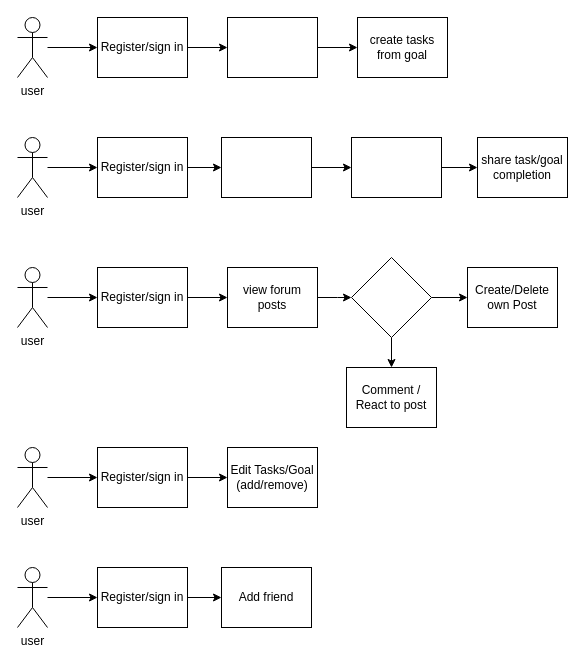
The diagram is 585 pixels wide and 666 high, and some of its shapes have lost their labels. Each missing label, with the box of its shape:
Describe goal: (226, 16, 318, 78)
mark tasks as done: (350, 136, 442, 198)
view todolist: (220, 136, 312, 198)
